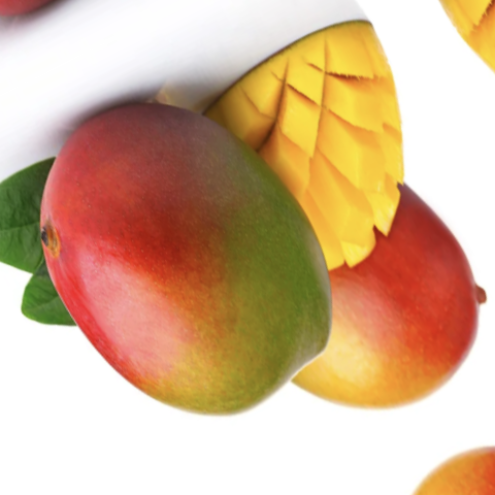mango: (0, 38, 388, 480), (177, 106, 495, 476)
